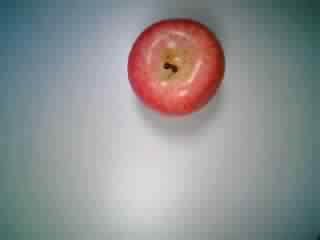apple: (124, 17, 229, 119)
